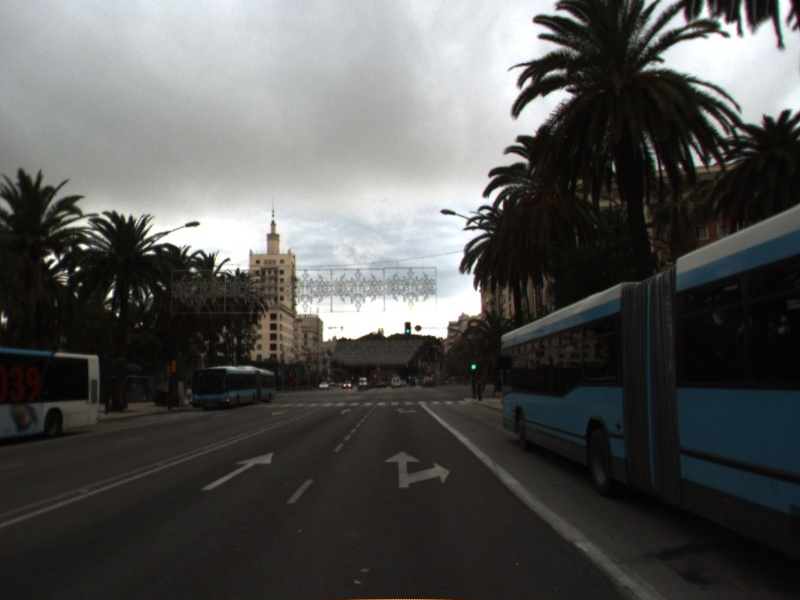STRAIGHT: (198, 450, 276, 493), (338, 407, 354, 416)
STRAIGHT_RIGHT: (382, 449, 452, 490), (393, 406, 418, 416)
